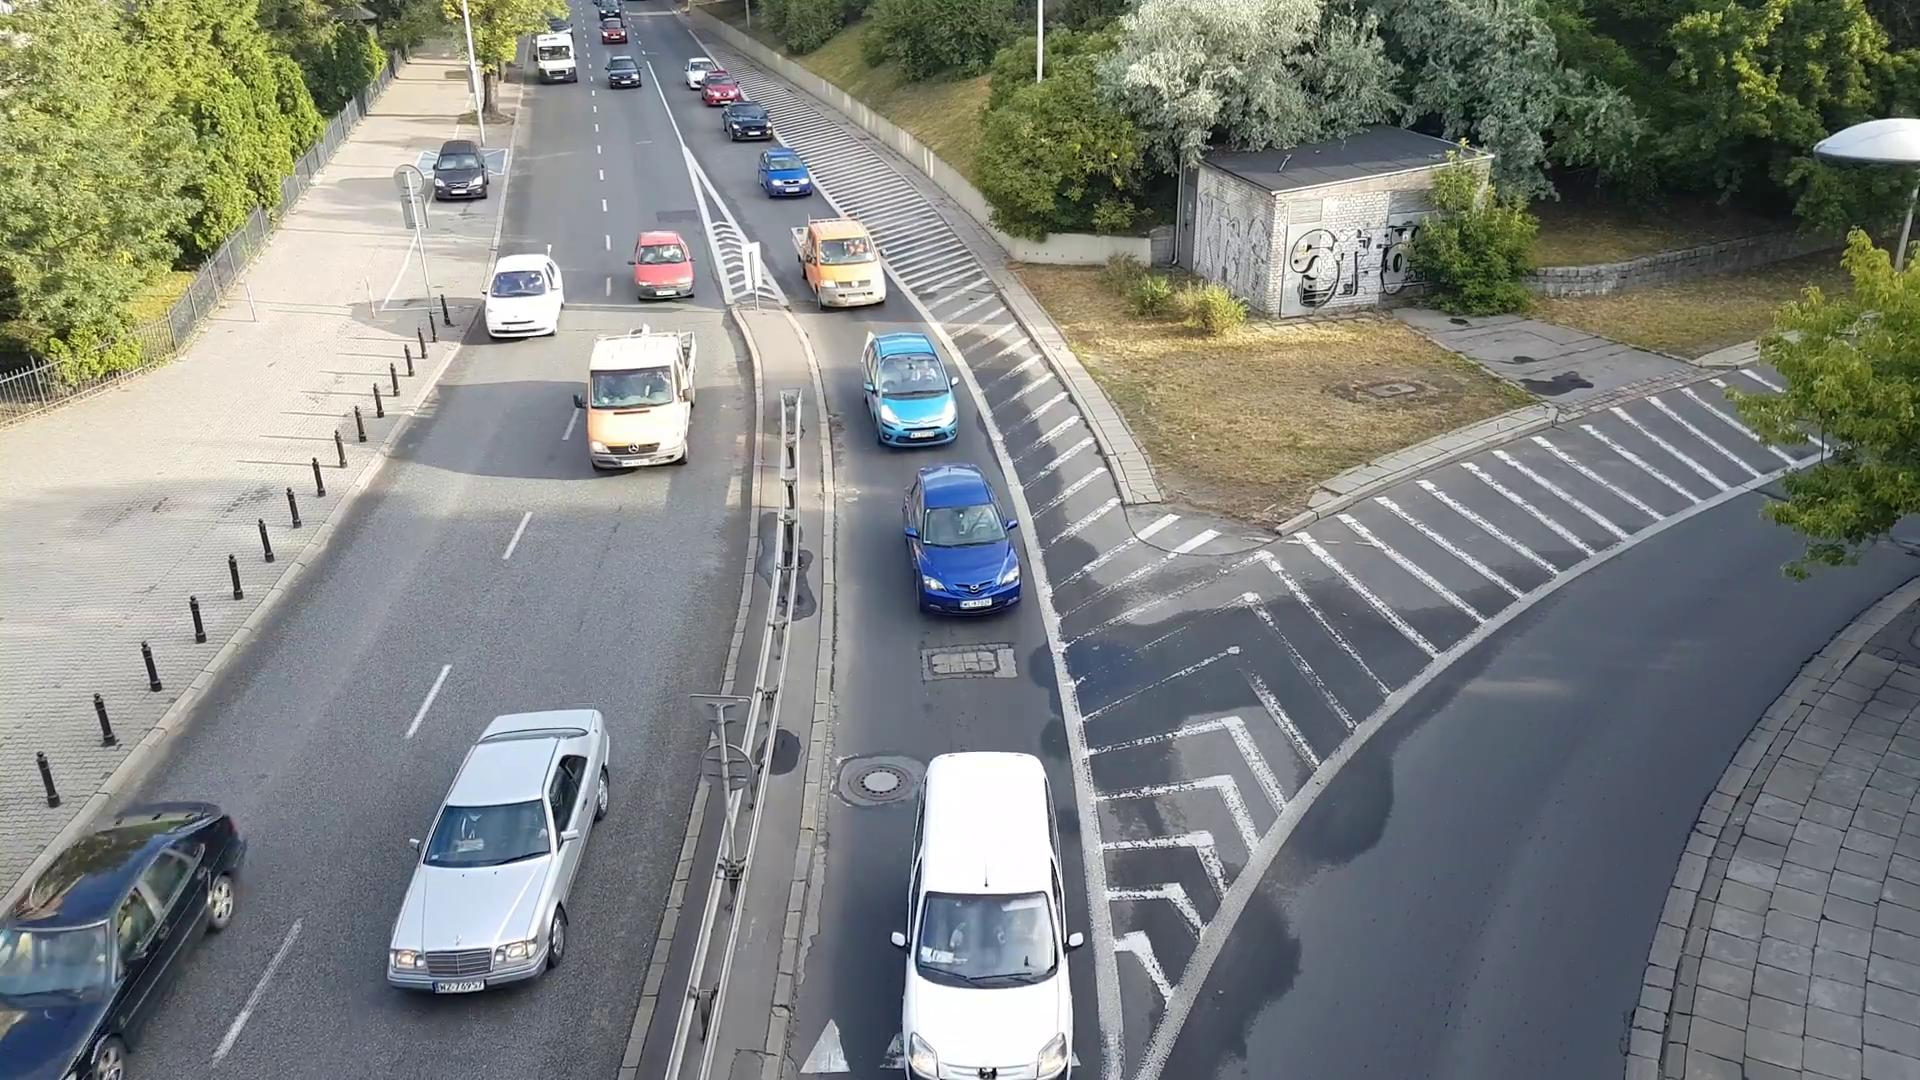car: (376, 683, 626, 1005), (4, 785, 248, 1077), (897, 727, 1076, 1079), (898, 455, 1031, 621), (857, 323, 968, 447), (491, 248, 568, 342), (628, 223, 702, 309), (431, 131, 489, 198), (753, 144, 815, 203), (720, 92, 779, 152), (604, 51, 645, 94), (702, 66, 741, 107), (684, 51, 724, 90)
truck: (582, 316, 704, 468), (783, 211, 894, 310), (527, 21, 578, 80)
